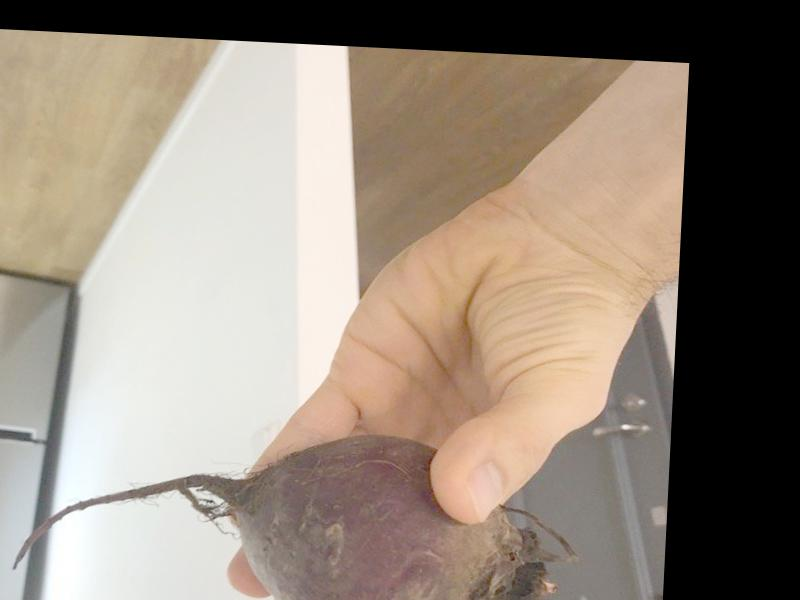Beet: (11, 421, 580, 600)
